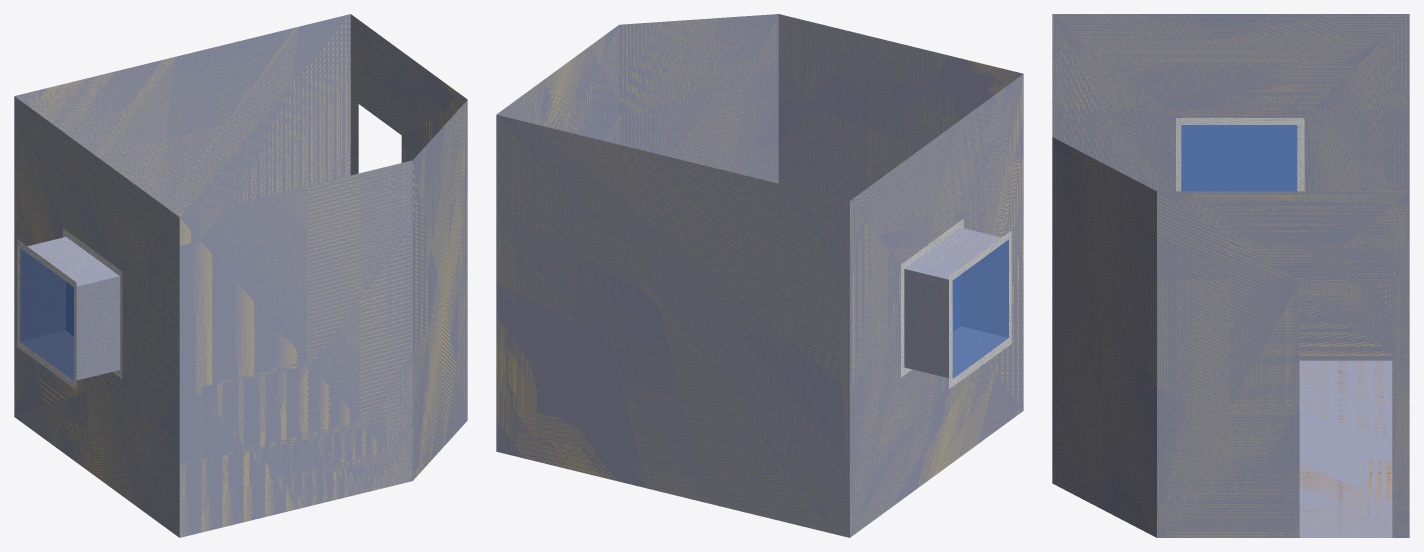
Rendered from DES018.obj.
3 views of the same model, side by side, from view 1: azimuth 30°, elevation 25°; view 2: azimuth 150°, elevation 25°; view 3: azimuth 270°, elevation 25° (orthographic). The views are drawn at different scales.
Parts seen in each view (by area): view 1: Mesh5 DES018 Model, Mesh1 Group1 DES018 Model; view 2: Mesh5 DES018 Model, Mesh1 Group1 DES018 Model; view 3: Mesh5 DES018 Model, Mesh1 Group1 DES018 Model.
Boxes of the visible parts, bbox=[...] form: Mesh5 DES018 Model: bbox=[14, 14, 467, 537]; Mesh1 Group1 DES018 Model: bbox=[17, 228, 122, 389]; Mesh5 DES018 Model: bbox=[496, 14, 1023, 537]; Mesh1 Group1 DES018 Model: bbox=[901, 219, 1011, 389]; Mesh5 DES018 Model: bbox=[1052, 14, 1409, 537]; Mesh1 Group1 DES018 Model: bbox=[1176, 118, 1304, 191].
Size of the model in its own units: 3.75 by 3 by 2.81.
Materials: 6 (2 with a texture image).
